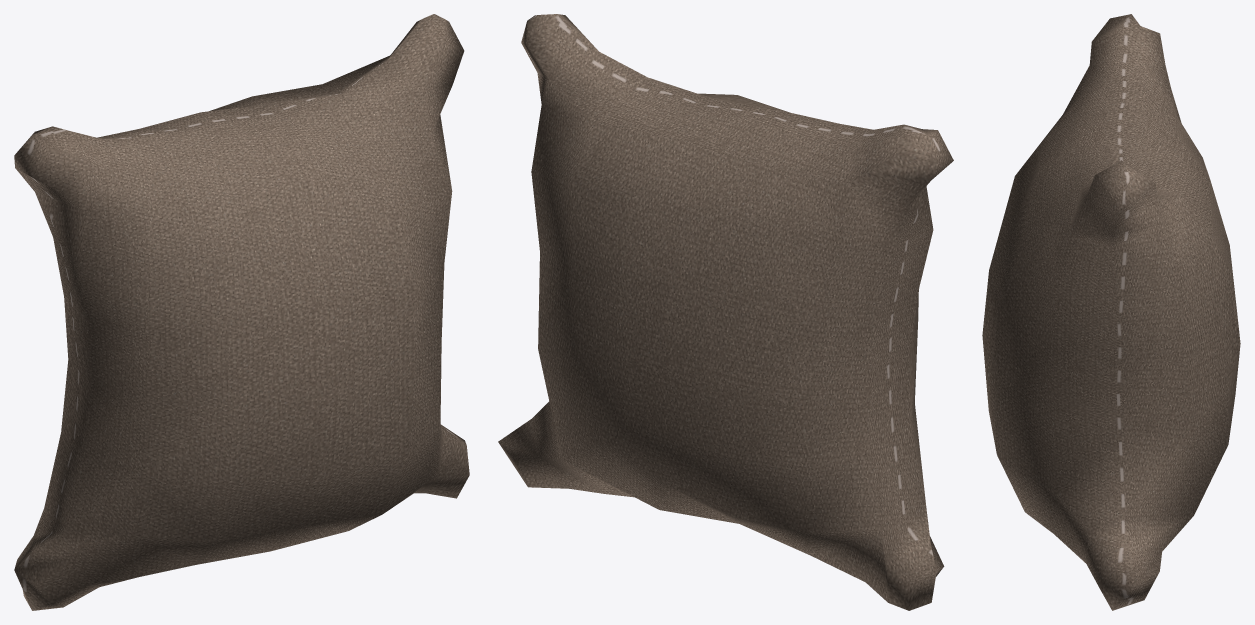
The model's file is bag2.fbx.
3 views of the same model, side by side, from view 1: azimuth 30°, elevation 25°; view 2: azimuth 150°, elevation 25°; view 3: azimuth 270°, elevation 25° (orthographic). The views are drawn at different scales.
Parts seen in each view (by area): view 1: bag2; view 2: bag2; view 3: bag2.
Boxes of the visible parts, <box> form: bag2: <box>14,14,469,610</box>; bag2: <box>498,14,953,610</box>; bag2: <box>982,14,1240,610</box>.
Size of the model in its own units: 41.75 by 44.62 by 22.91.
